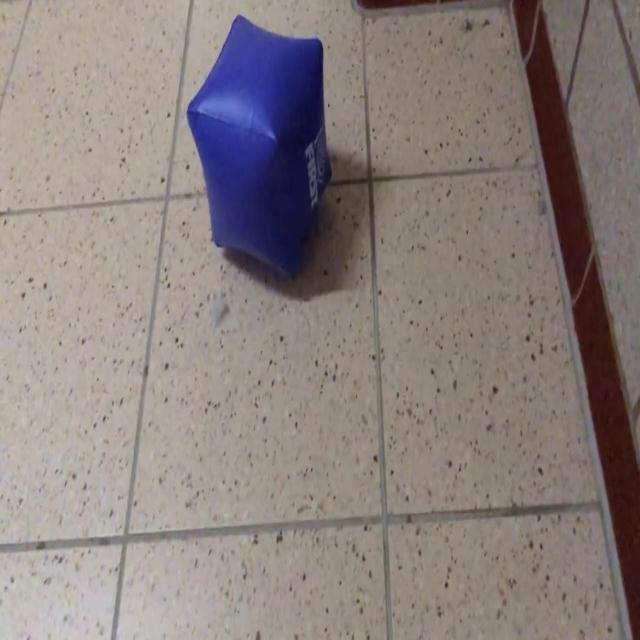frc_cube: (187, 18, 332, 276)
